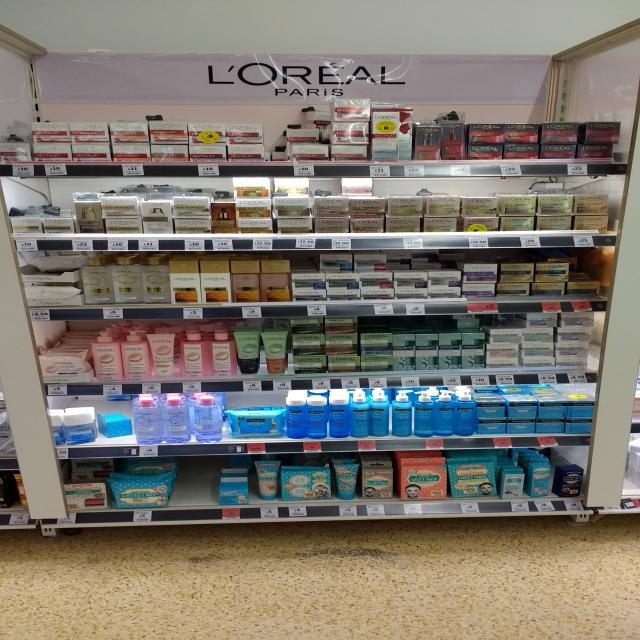void: (173, 468, 217, 504)
